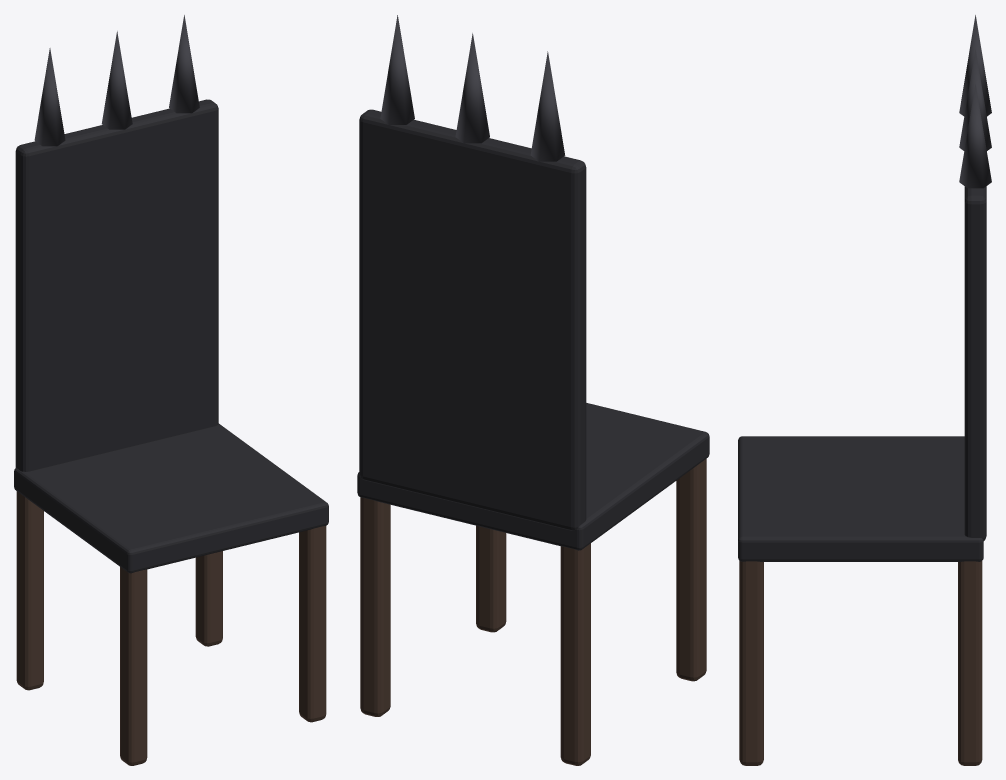
Rendered from chair_spiked.glb.
The picture shows the model from 3 angles, left to right: view 1: azimuth 30°, elevation 25°; view 2: azimuth 150°, elevation 25°; view 3: azimuth 270°, elevation 25°; orthographic projection. The views are drawn at different scales.
Parts seen in each view (by area): view 1: GD_chair_spiked__m0, GD_chair_spiked__m1, GD_chair_spiked__m2; view 2: GD_chair_spiked__m0, GD_chair_spiked__m1, GD_chair_spiked__m2; view 3: GD_chair_spiked__m0, GD_chair_spiked__m1, GD_chair_spiked__m2.
Boxes of the visible parts, bbox=[...] form: GD_chair_spiked__m0: bbox=[14, 99, 328, 573]; GD_chair_spiked__m1: bbox=[16, 491, 326, 765]; GD_chair_spiked__m2: bbox=[34, 15, 199, 146]; GD_chair_spiked__m0: bbox=[357, 109, 709, 550]; GD_chair_spiked__m1: bbox=[360, 459, 706, 765]; GD_chair_spiked__m2: bbox=[380, 15, 565, 161]; GD_chair_spiked__m0: bbox=[738, 186, 986, 561]; GD_chair_spiked__m1: bbox=[739, 561, 982, 765]; GD_chair_spiked__m2: bbox=[959, 15, 991, 188].
Size of the model in its own units: 0.45 by 1.35 by 0.465.
